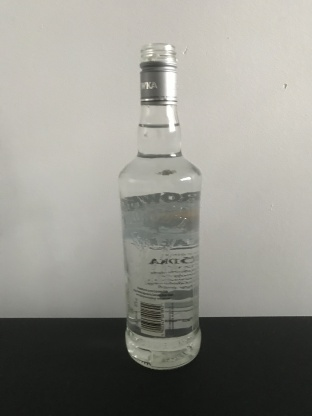nakretka: (137, 41, 179, 107)
